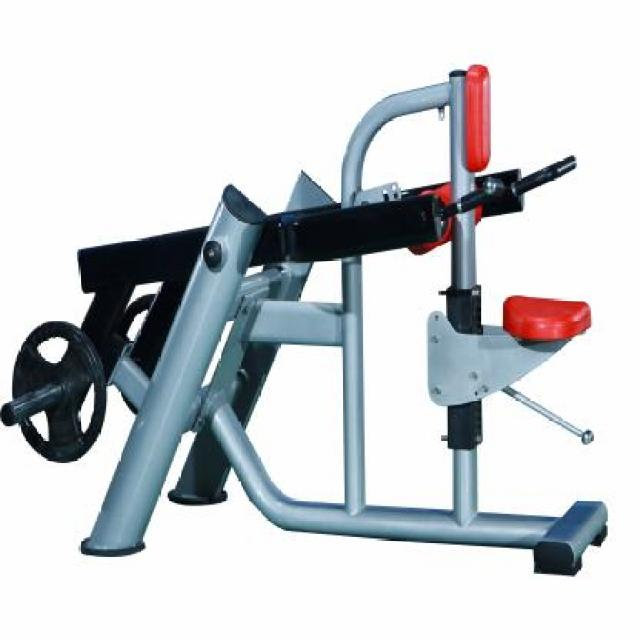seated dip machine: (3, 65, 611, 577)
